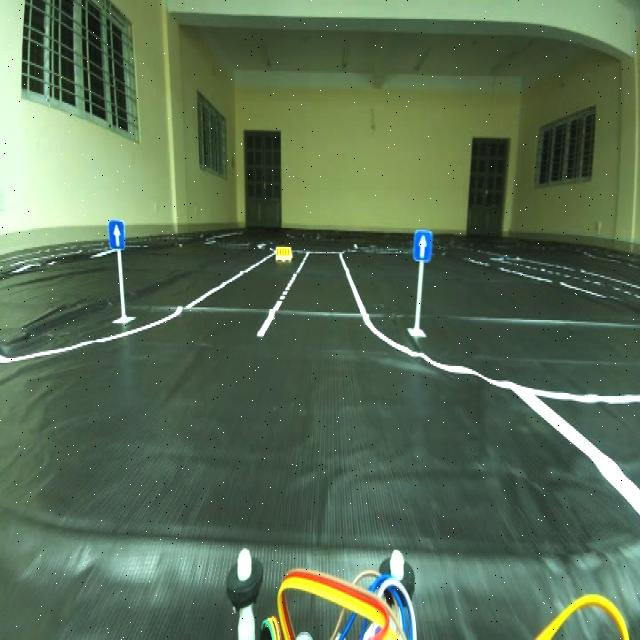onewayroad: (410, 222, 436, 272), (106, 218, 128, 256)
roadblock: (274, 239, 298, 270)
